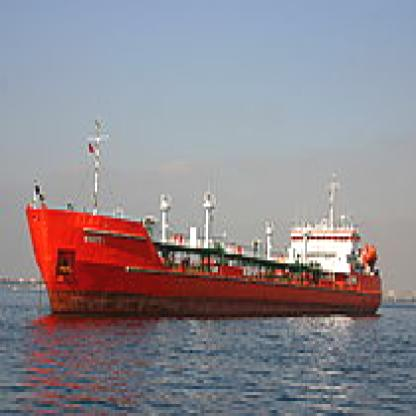Tanker: (31, 198, 388, 353)
